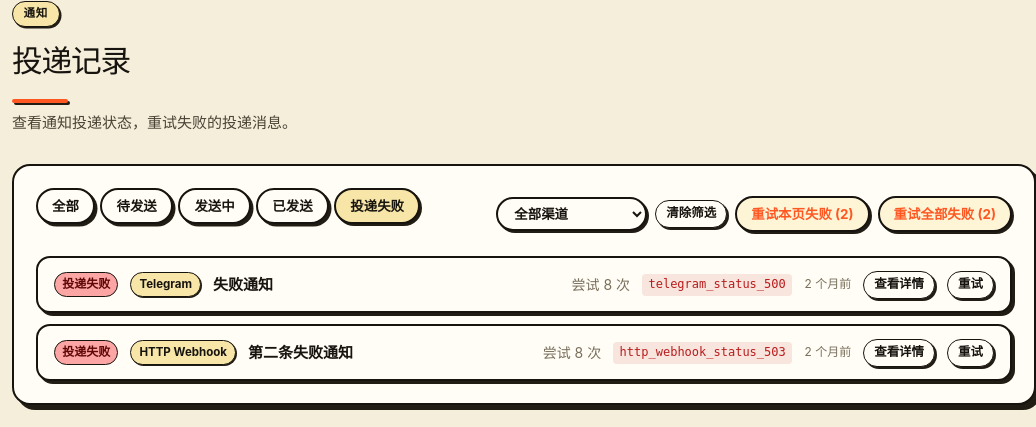
Test: OutboxPage › 单条重试进行中时标记当前行忙碌并禁用当前按钮
Step 1. Click the button with aria-label "重试投递：失败通知" → (970, 285), box [947, 271, 994, 299]
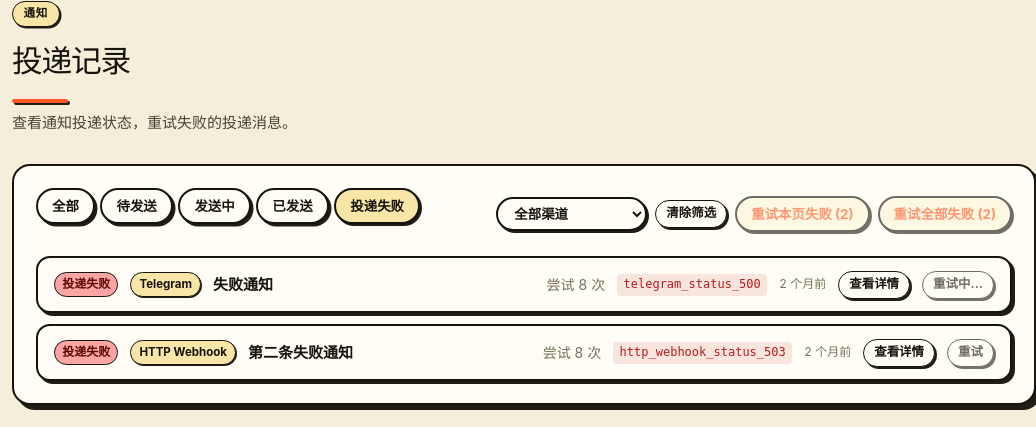
Result: the button with aria-label "重试投递：失败通知" is disabled at [922, 271, 994, 299]
